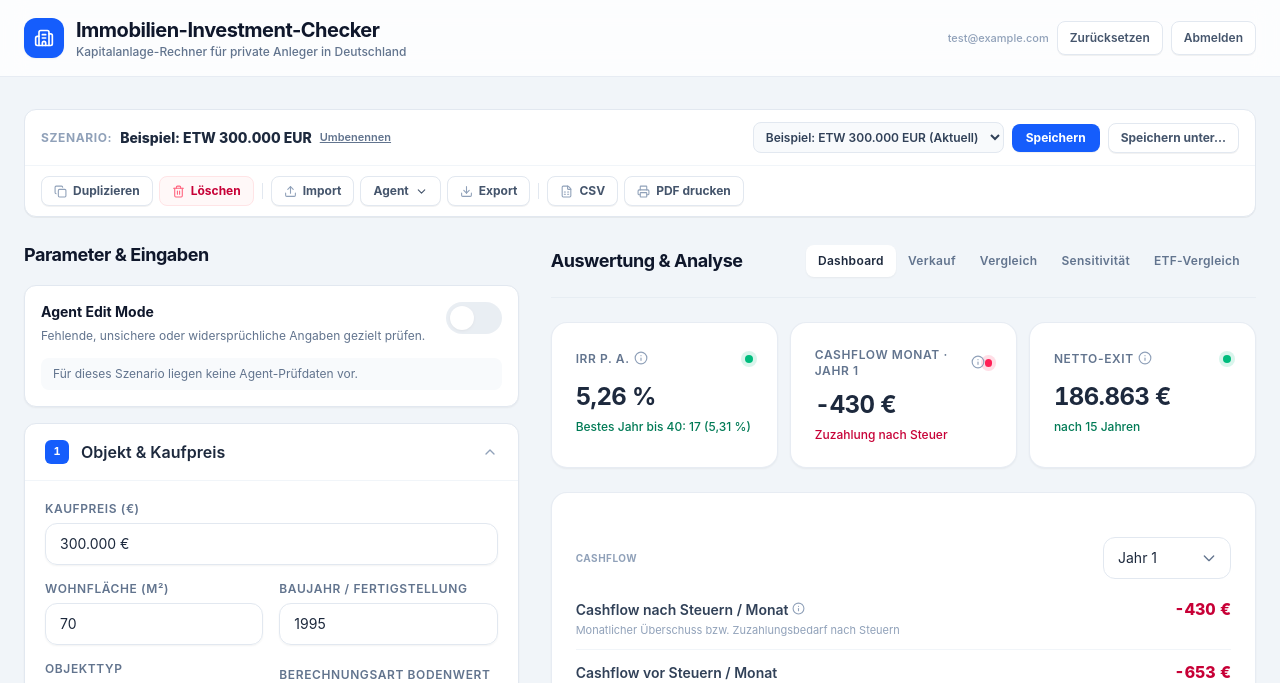
Scenario: Dashboard-Jahresauswahl › zeigt nach der Auswahl die Cashflows des gewählten Folgejahres
Expected: the text "Cashflow Monat · Jahr 1" is shown, [815, 347, 967, 379]
Select "Jahr 2" in the dropdown named "Jahr für Cashflow auswählen" at (1167, 558), box [1103, 537, 1231, 579]
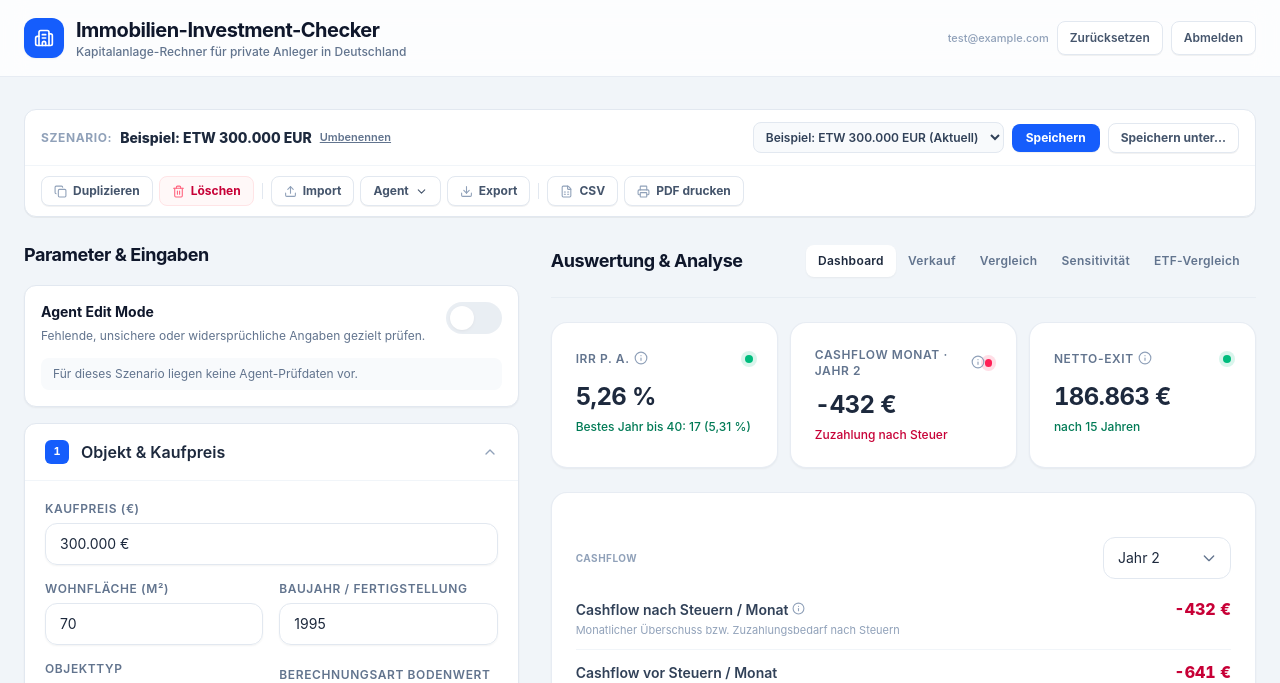
Expected: the text "Cashflow nach Steuern / Monat" is shown, [576, 601, 788, 618]
Result: the text "Cashflow Monat · Jahr 2" is shown at [815, 347, 967, 379]
